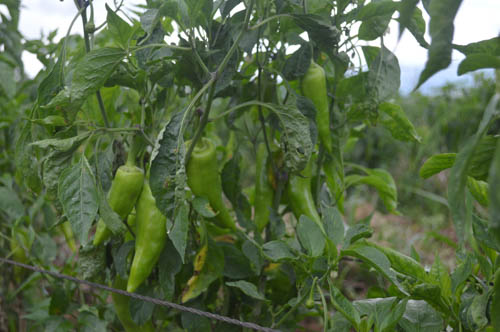ChiliPepper: (93, 165, 143, 254), (185, 141, 238, 224), (126, 189, 168, 292), (252, 147, 280, 233), (307, 67, 334, 148), (289, 169, 320, 233)
